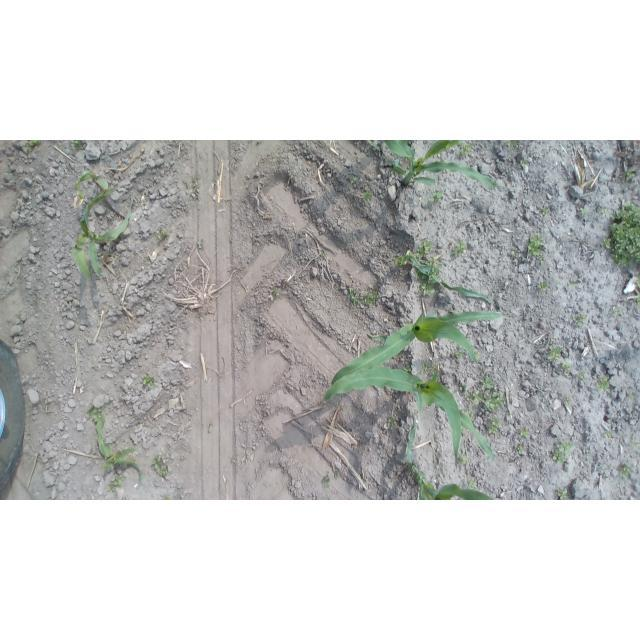Maize: (324, 372, 501, 465), (331, 306, 507, 387), (406, 423, 499, 500), (67, 195, 143, 285), (381, 141, 502, 192), (400, 254, 495, 308), (89, 407, 148, 487), (70, 174, 113, 199)
Weeds: (602, 203, 640, 270), (467, 375, 509, 413), (550, 440, 572, 468), (346, 288, 379, 306), (524, 232, 544, 260), (418, 276, 439, 299), (187, 173, 204, 200), (87, 404, 107, 425), (427, 190, 448, 210), (152, 454, 168, 480), (452, 237, 472, 257), (106, 477, 126, 496), (141, 372, 160, 391), (415, 241, 434, 260), (422, 362, 440, 381), (487, 418, 505, 436), (545, 344, 563, 360), (593, 374, 611, 390), (457, 142, 475, 158), (572, 312, 587, 329), (360, 187, 377, 202), (385, 416, 400, 432), (623, 168, 638, 184), (617, 463, 633, 478), (155, 229, 170, 244), (319, 475, 334, 490), (22, 141, 42, 152), (537, 281, 552, 295), (559, 360, 574, 374), (502, 140, 522, 150), (318, 251, 332, 265), (517, 157, 531, 171), (66, 141, 85, 151), (195, 240, 207, 255), (462, 478, 477, 490), (364, 141, 380, 152), (635, 276, 640, 311), (555, 488, 569, 500), (401, 363, 415, 374), (568, 278, 579, 292), (457, 454, 469, 466), (521, 427, 532, 440), (603, 426, 613, 440), (349, 173, 360, 185), (595, 205, 607, 216), (270, 288, 283, 298), (452, 350, 468, 358), (564, 397, 575, 408), (538, 205, 550, 215), (160, 491, 173, 500), (459, 383, 469, 394), (576, 370, 586, 381), (610, 305, 619, 316), (516, 446, 525, 457), (582, 208, 590, 219), (510, 249, 517, 259), (207, 425, 213, 435), (629, 395, 635, 402)
